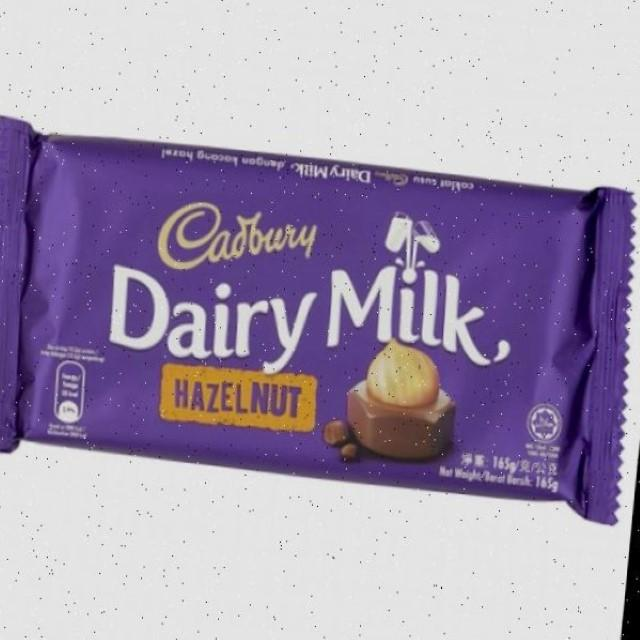cadbury_chocolate: (20, 138, 595, 494)
